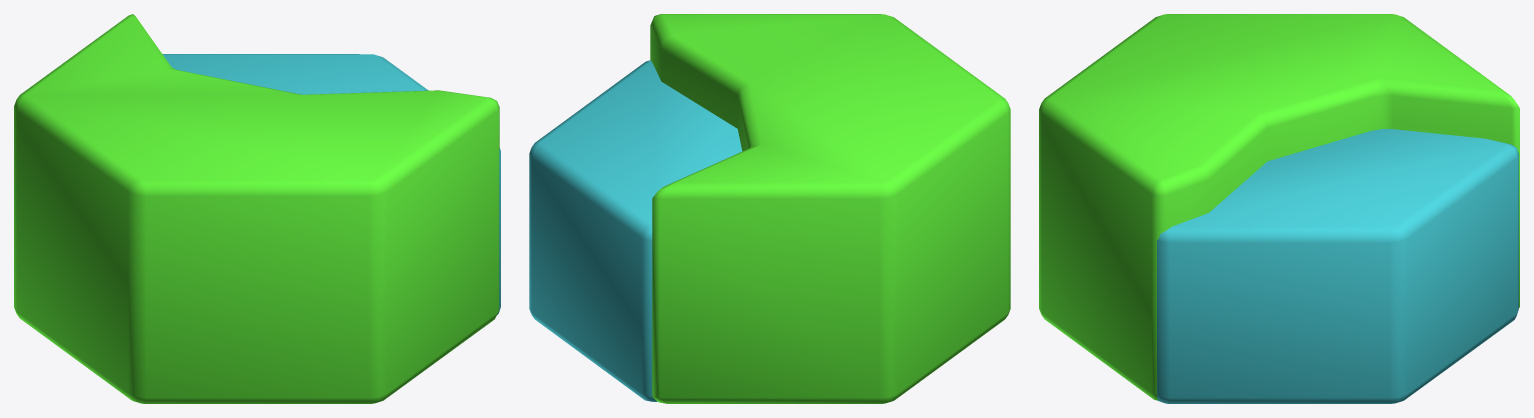
The model's file is grass_water1.glb.
The picture shows the model from 3 angles, left to right: view 1: azimuth 30°, elevation 25°; view 2: azimuth 150°, elevation 25°; view 3: azimuth 270°, elevation 25°; orthographic projection.
Parts seen in each view (by area): view 1: grass_water1; view 2: grass_water1; view 3: grass_water1.
Boxes of the visible parts, x1,y1,x2,y2 form: grass_water1: (14,14,500,403); grass_water1: (529,14,1010,403); grass_water1: (1039,14,1519,403).
Bounding box in the file's own units: 6.93 × 4 × 7.89.
